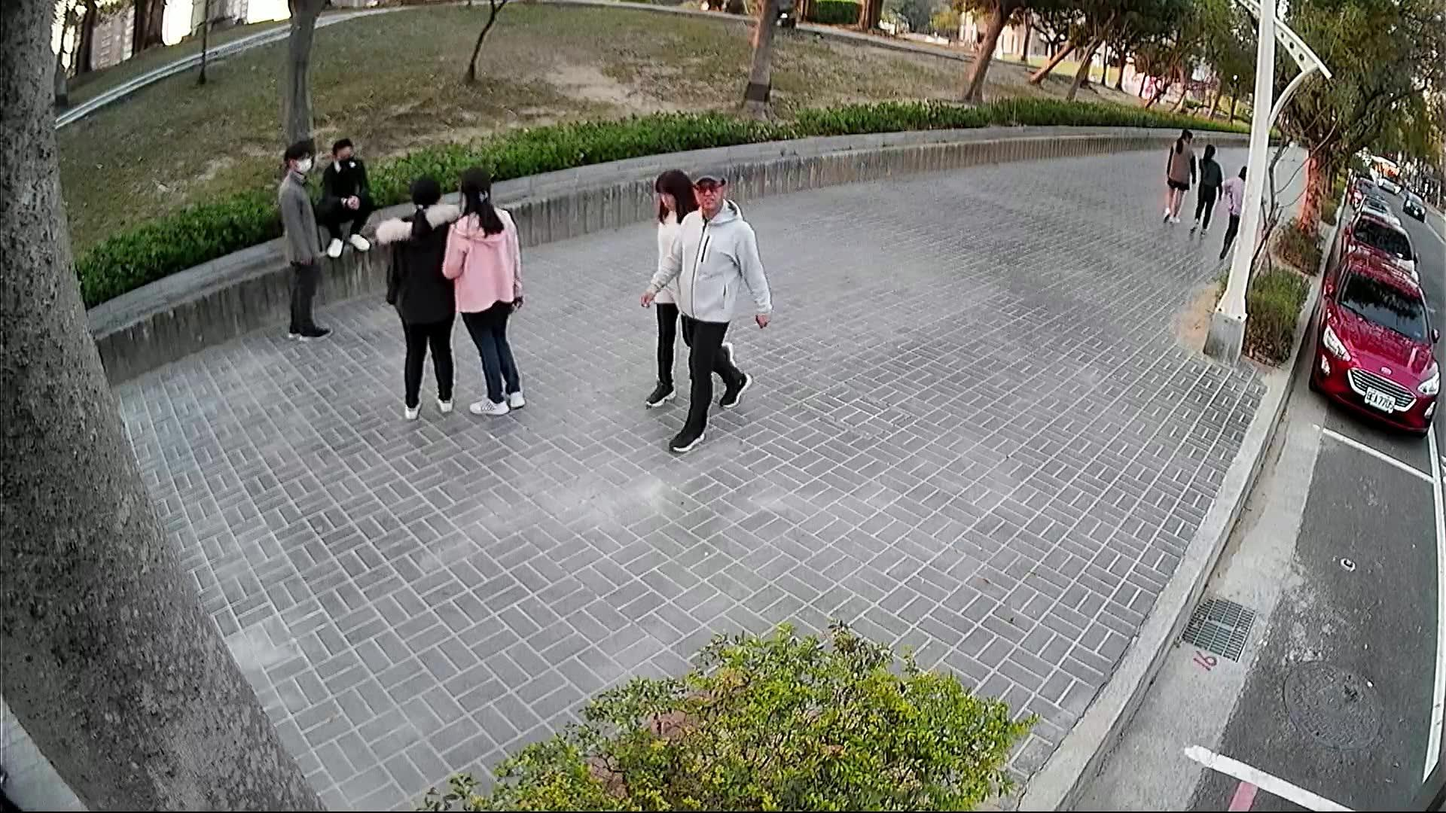person: (633, 159, 770, 455), (633, 168, 754, 413), (435, 159, 529, 419), (371, 167, 458, 425), (269, 134, 332, 345), (308, 129, 375, 260), (1157, 123, 1197, 227), (1184, 138, 1222, 240), (1214, 162, 1247, 263)
